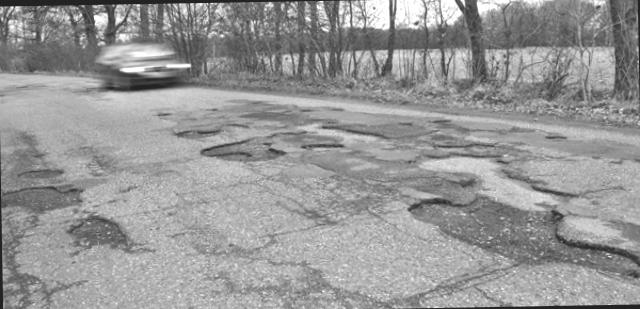Pothole: (389, 175, 640, 294), (192, 118, 310, 178), (62, 200, 149, 266), (1, 166, 92, 224), (278, 105, 376, 153)
